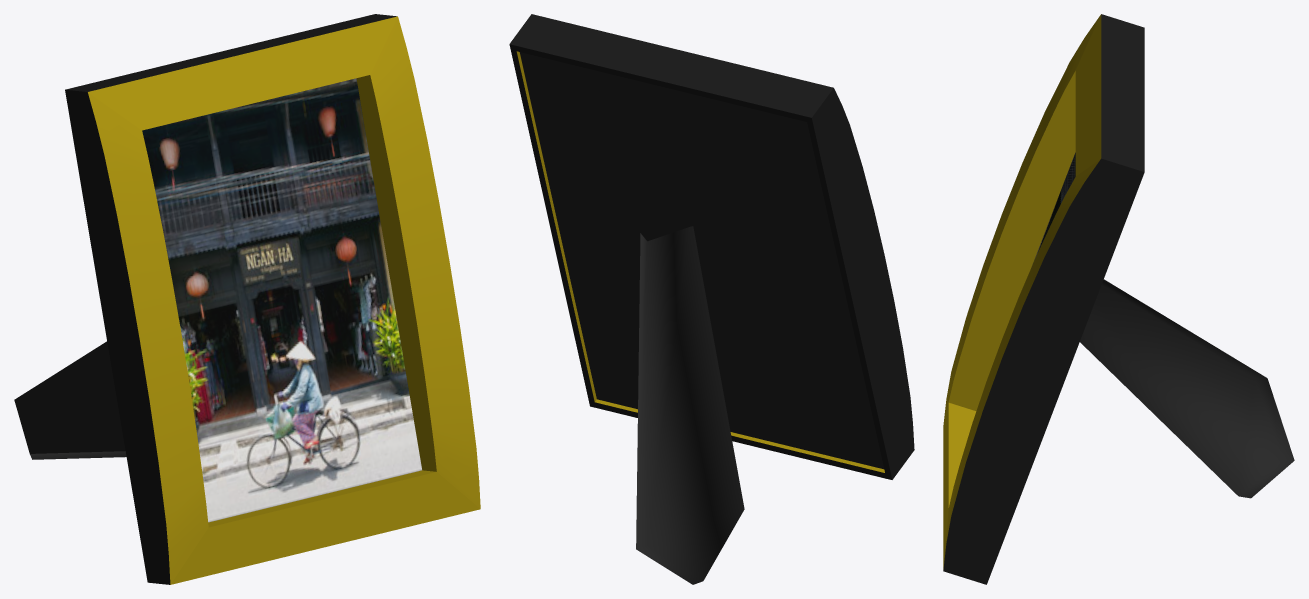
The model's file is frame2.obj.
3 renders of one model, left to right at view 1: azimuth 30°, elevation 25°; view 2: azimuth 150°, elevation 25°; view 3: azimuth 270°, elevation 25°, orthographic. The views are drawn at different scales.
Visible parts, largest first — view 1: frame2_Cube.002; view 2: frame2_Cube.002; view 3: frame2_Cube.002.
Boxes of the visible parts, x1,y1,x2,y2 form: frame2_Cube.002: (14, 14, 480, 584); frame2_Cube.002: (509, 14, 914, 584); frame2_Cube.002: (943, 14, 1294, 584).
Size of the model in its own units: 2.37 by 3.26 by 2.43.
